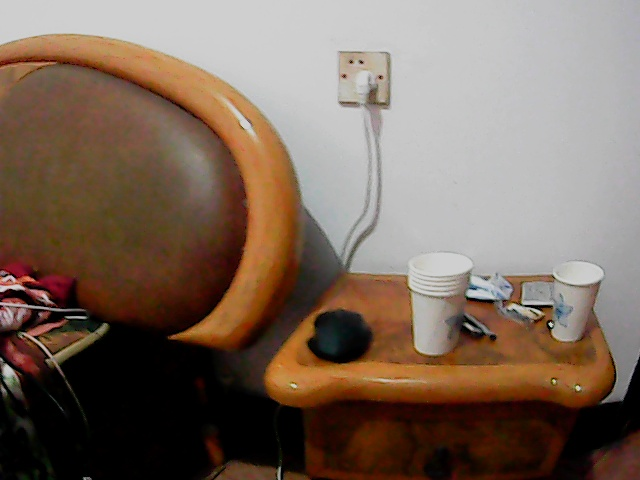cup: (405, 252, 472, 356)
mouse: (305, 305, 375, 359)
